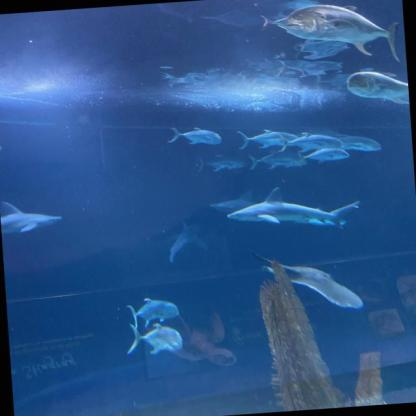fish: (283, 0, 402, 71), (346, 68, 409, 109), (124, 321, 183, 355), (277, 128, 342, 152), (128, 296, 179, 326), (238, 126, 300, 150), (323, 130, 382, 154), (258, 10, 322, 32), (167, 123, 221, 147), (250, 147, 306, 170), (198, 152, 245, 174), (298, 147, 352, 164)
shark: (226, 181, 362, 237), (208, 187, 290, 217), (0, 197, 64, 235), (167, 219, 205, 261)
stingray: (260, 258, 363, 314)
